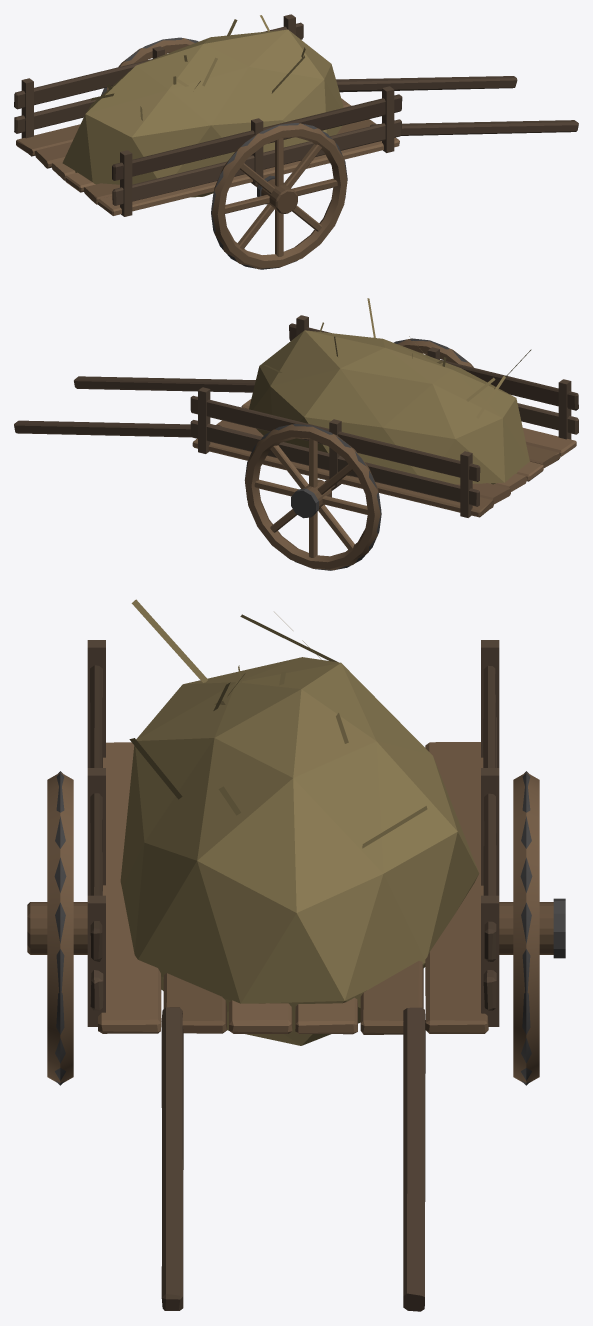
Rendered from cart_hay.glb.
3 views of the same model, one above another, from view 1: azimuth 30°, elevation 25°; view 2: azimuth 150°, elevation 25°; view 3: azimuth 270°, elevation 25° (orthographic). The views are drawn at different scales.
Parts seen in each view (by area): view 1: cart_hay; view 2: cart_hay; view 3: cart_hay.
Part boxes in pixels (<box>): cart_hay: <box>14,14,578,269</box>; cart_hay: <box>14,298,578,570</box>; cart_hay: <box>27,599,565,1311</box>.
Size of what is drawn, in the model's own units: 3.69 by 1.4 by 1.78.
